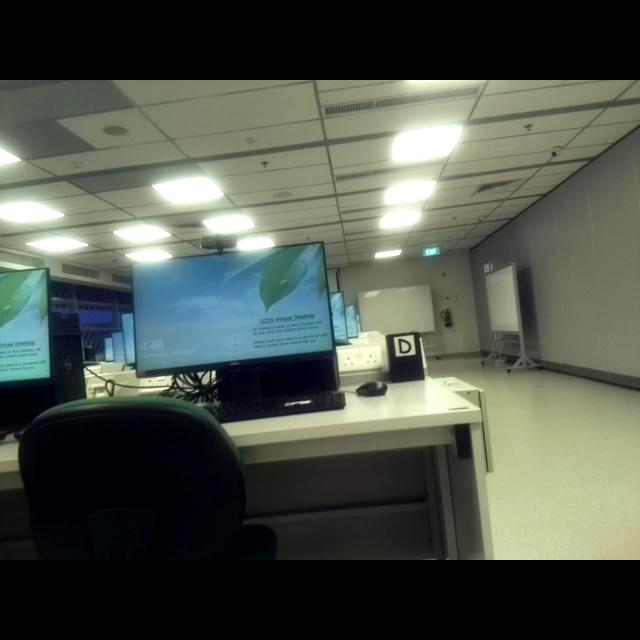D: (397, 338, 412, 355)
